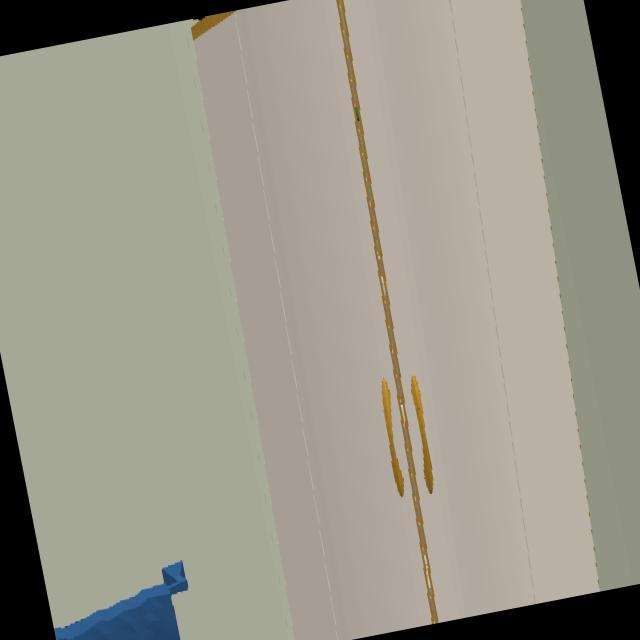shower: (194, 0, 603, 640)
